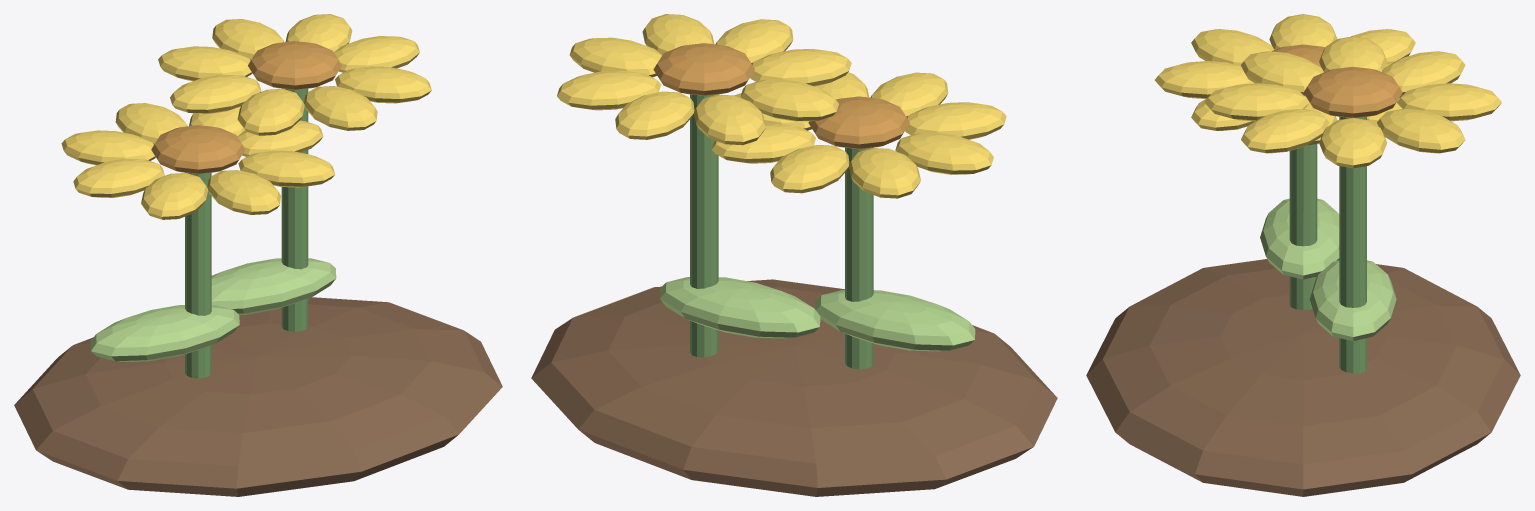
File: Sunflower.fbx
The picture shows the model from 3 angles, left to right: view 1: azimuth 30°, elevation 25°; view 2: azimuth 150°, elevation 25°; view 3: azimuth 270°, elevation 25°; orthographic projection. The views are drawn at different scales.
Parts seen in each view (by area): view 1: Worksite soil bed.013, Wide leaf.016, Wide leaf.017, Flower stalk.016, Pollen disk.016, Pollen disk.017, Flower stalk.017, Colored petal.140, Colored petal.143, Colored petal.132, Colored petal.135, Colored petal.134 (+11 smaller); view 2: Worksite soil bed.013, Wide leaf.017, Wide leaf.016, Flower stalk.017, Flower stalk.016, Pollen disk.017, Pollen disk.016, Colored petal.140, Colored petal.132, Colored petal.137, Colored petal.138, Colored petal.130 (+10 smaller); view 3: Worksite soil bed.013, Flower stalk.017, Wide leaf.017, Wide leaf.016, Pollen disk.017, Flower stalk.016, Colored petal.143, Colored petal.137, Colored petal.142, Colored petal.138, Colored petal.136, Colored petal.134 (+8 smaller).
Boxes of the visible parts, <box> form: Worksite soil bed.013: <box>14,297,502,496</box>; Wide leaf.016: <box>90,305,239,361</box>; Wide leaf.017: <box>211,258,336,314</box>; Flower stalk.016: <box>185,172,211,378</box>; Pollen disk.016: <box>151,125,245,174</box>; Pollen disk.017: <box>248,41,341,89</box>; Flower stalk.017: <box>281,88,308,331</box>; Colored petal.140: <box>170,74,261,113</box>; Colored petal.143: <box>335,66,431,103</box>; Colored petal.132: <box>73,159,164,197</box>; Colored petal.135: <box>238,150,335,187</box>; Colored petal.134: <box>207,170,280,214</box>; Worksite soil bed.013: <box>531,279,1057,496</box>; Wide leaf.017: <box>659,277,820,338</box>; Wide leaf.016: <box>815,290,975,351</box>; Flower stalk.017: <box>690,94,718,357</box>; Flower stalk.016: <box>845,147,873,369</box>; Pollen disk.017: <box>653,43,754,95</box>; Pollen disk.016: <box>808,96,909,149</box>; Colored petal.140: <box>740,79,838,121</box>; Colored petal.132: <box>895,132,993,174</box>; Colored petal.137: <box>557,70,661,110</box>; Colored petal.138: <box>615,91,694,139</box>; Colored petal.130: <box>770,145,849,193</box>; Worksite soil bed.013: <box>1086,259,1520,496</box>; Flower stalk.017: <box>1339,116,1366,373</box>; Wide leaf.017: <box>1309,260,1396,341</box>; Wide leaf.016: <box>1260,198,1339,279</box>; Pollen disk.017: <box>1303,66,1402,117</box>; Flower stalk.016: <box>1289,144,1317,309</box>; Colored petal.143: <box>1241,109,1329,153</box>; Colored petal.137: <box>1377,109,1465,153</box>; Colored petal.142: <box>1204,83,1309,121</box>; Colored petal.138: <box>1396,83,1501,121</box>; Colored petal.136: <box>1319,117,1386,168</box>; Colored petal.134: <box>1154,61,1254,98</box>.
Size of the model in its own units: 174 by 132 by 140.
